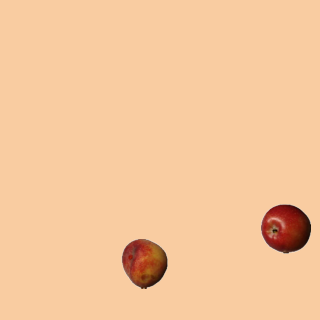Apple Braeburn: (260, 203, 310, 253)
Peach: (119, 238, 169, 288)
